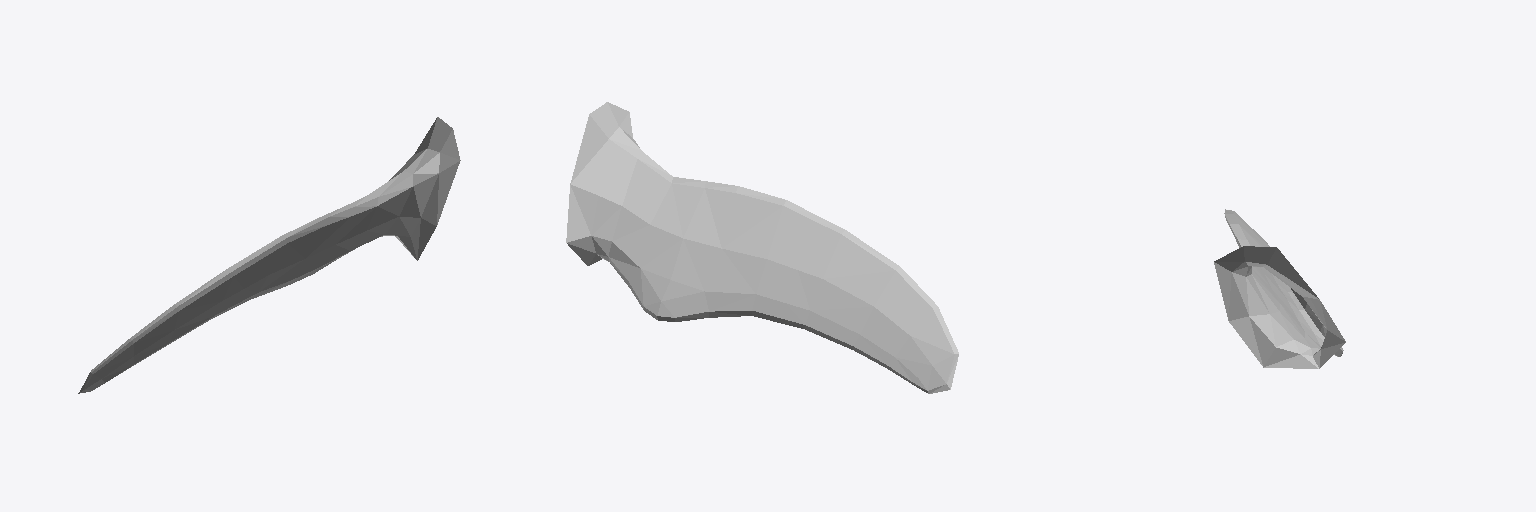
The model's file is fF_rightleg.obj.
The picture shows the model from 3 angles: view 1: azimuth 30°, elevation 25°; view 2: azimuth 150°, elevation 25°; view 3: azimuth 270°, elevation 25°; orthographic projection.
Parts seen in each view (by area): view 1: Animal.003; view 2: Animal.003; view 3: Animal.003.
Boxes of the visible parts, x1,y1,x2,y2 form: Animal.003: [78, 117, 460, 393]; Animal.003: [566, 102, 958, 393]; Animal.003: [1214, 209, 1345, 368].
Size of the model in its own units: 3.32 by 1.71 by 1.06.